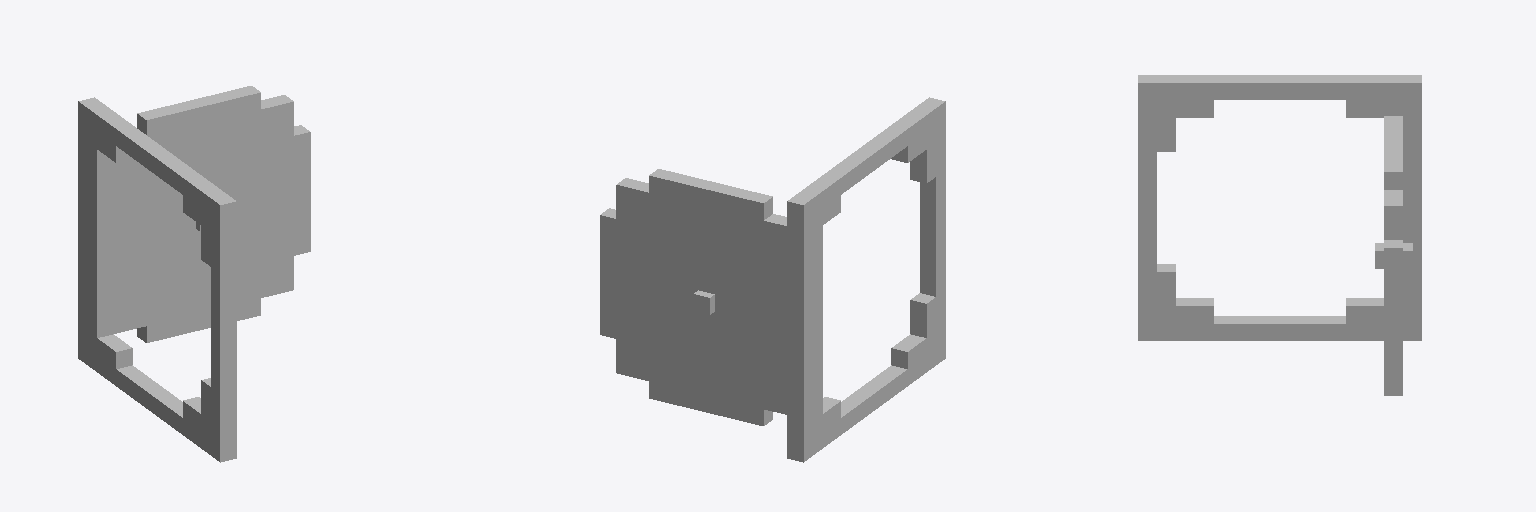
File: doors_hobbit_door_open.obj
3 renders of one model, left to right at view 1: azimuth 30°, elevation 25°; view 2: azimuth 150°, elevation 25°; view 3: azimuth 270°, elevation 25°, orthographic.
Visible parts, largest first — view 1: Cube.001; view 2: Cube.001; view 3: Cube.001.
Part boxes in pixels (bbox=[...]): Cube.001: bbox=[78, 86, 310, 462]; Cube.001: bbox=[600, 97, 945, 462]; Cube.001: bbox=[1138, 75, 1421, 395].
Size of the model in its own units: 1.73 by 2 by 2.